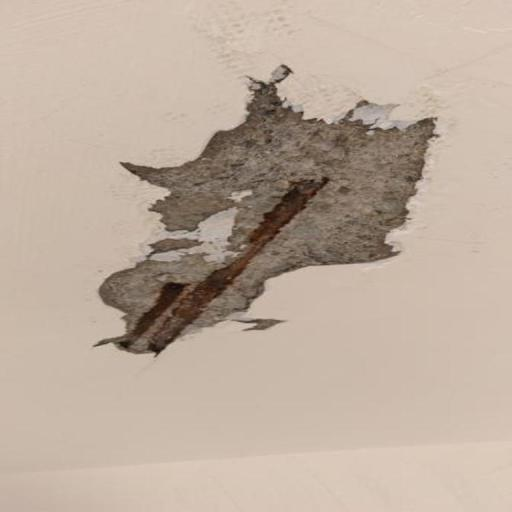spalling: (94, 66, 447, 362)
